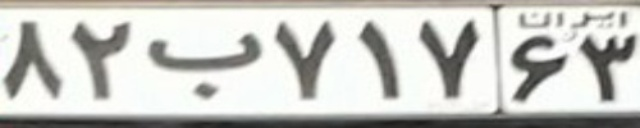1: (355, 20, 400, 98)
2: (70, 20, 133, 98)
3: (579, 32, 636, 102)
6: (508, 34, 567, 101)
7: (272, 16, 340, 100), (418, 19, 479, 97)
8: (4, 20, 62, 98)
be: (146, 33, 264, 100)
